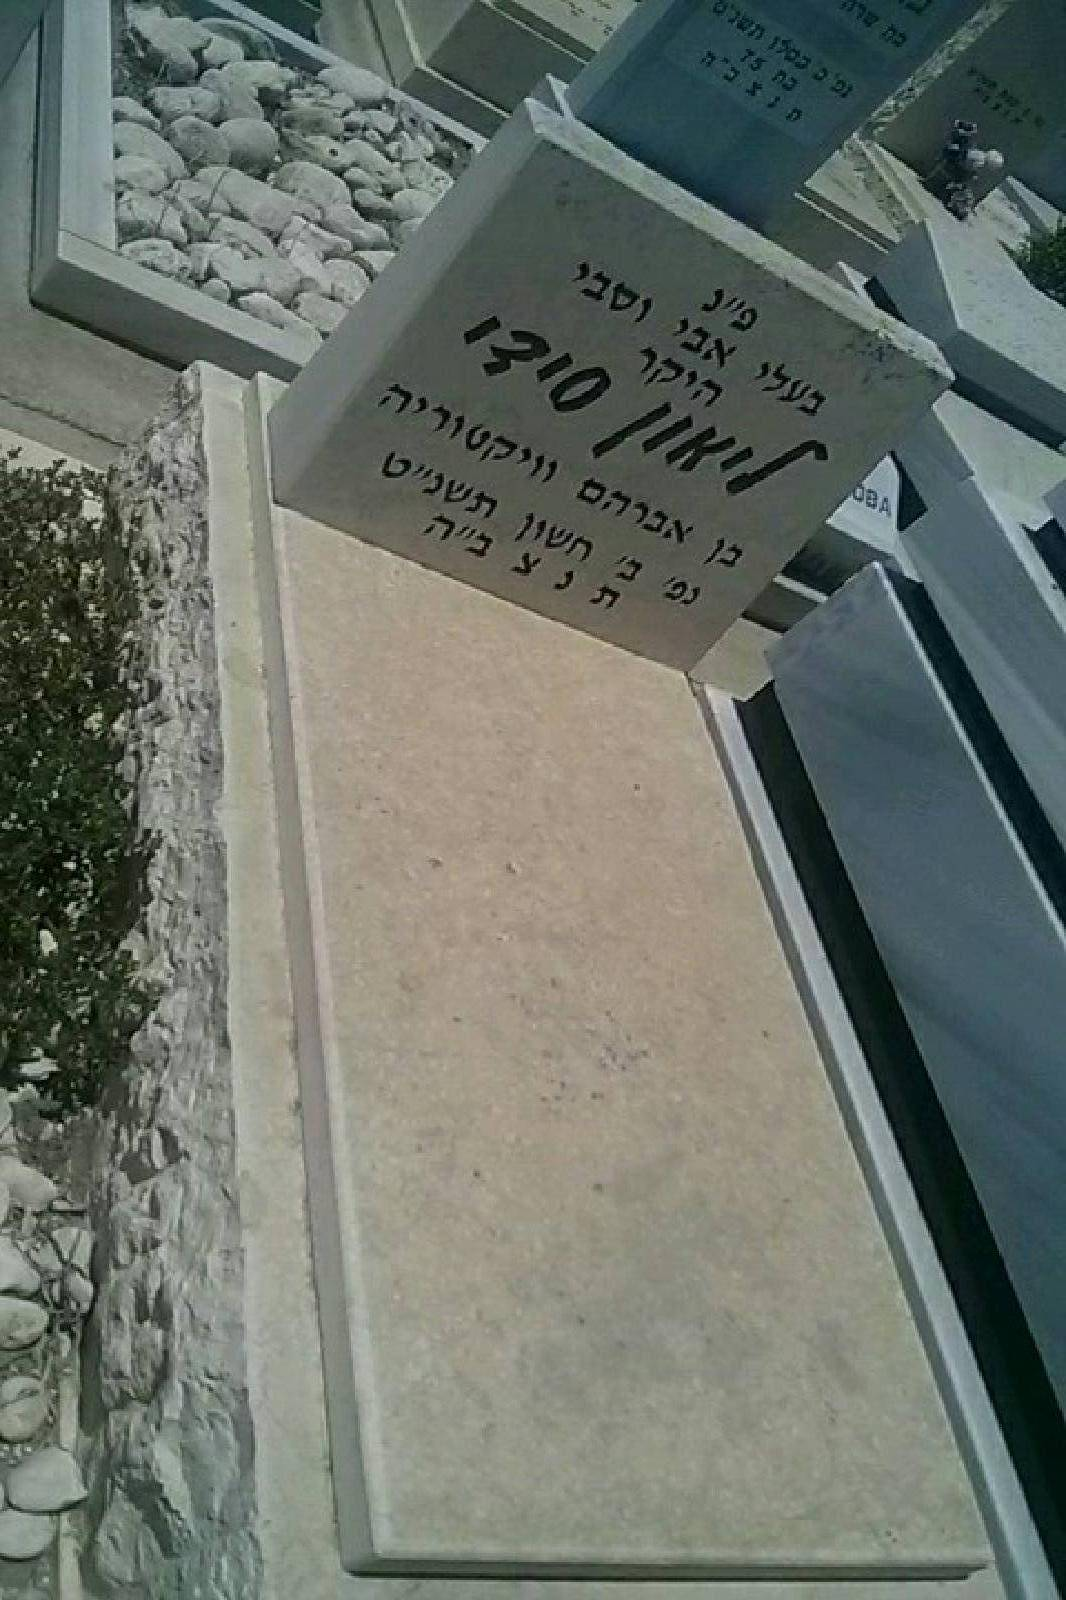vault: (199, 50, 1066, 1600)
